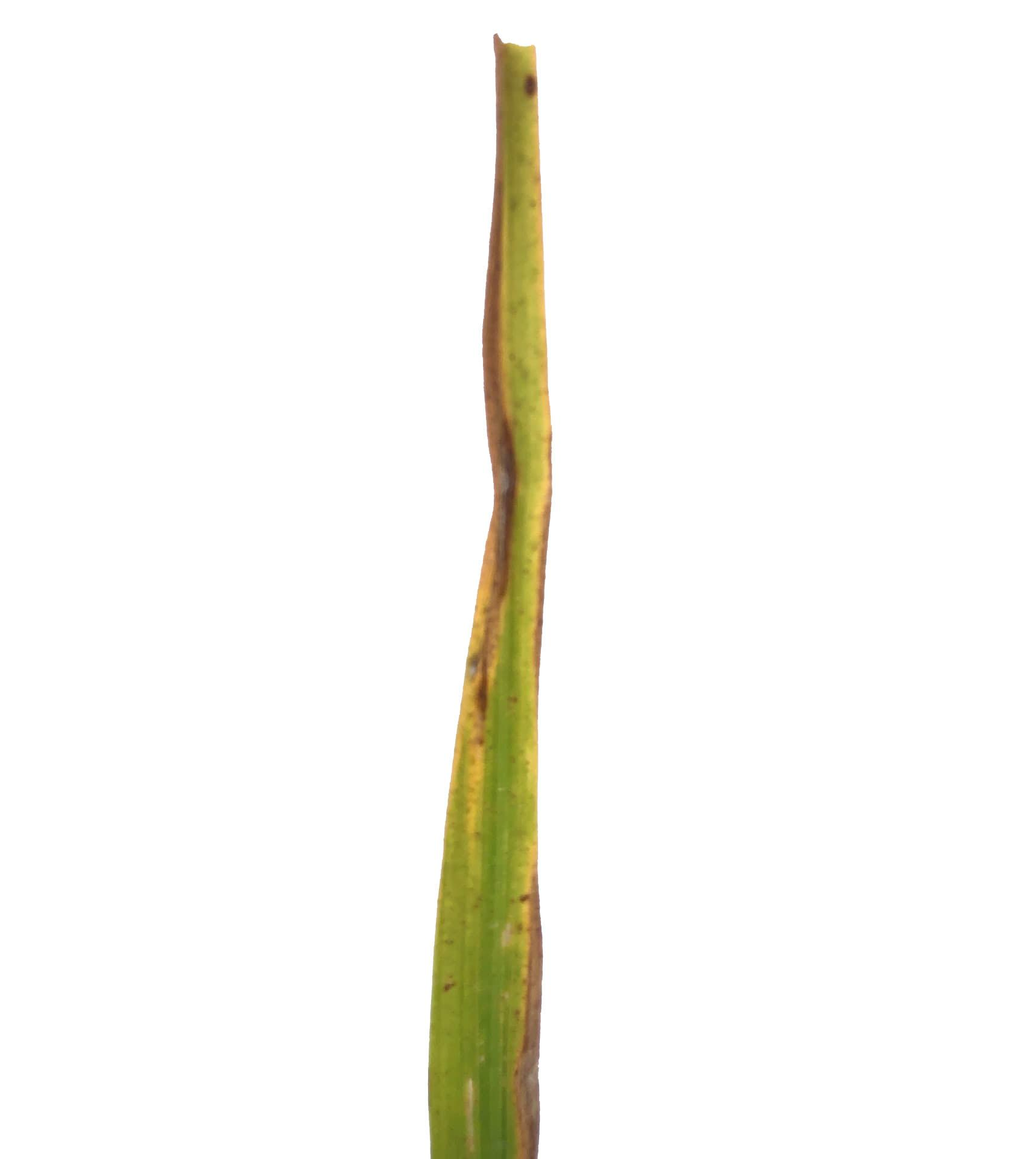Brown spot: (519, 64, 546, 110)
Rice blast: (469, 187, 524, 720), (505, 853, 543, 1158)
Tungro: (439, 879, 497, 1158), (461, 711, 532, 880), (512, 133, 548, 431)
